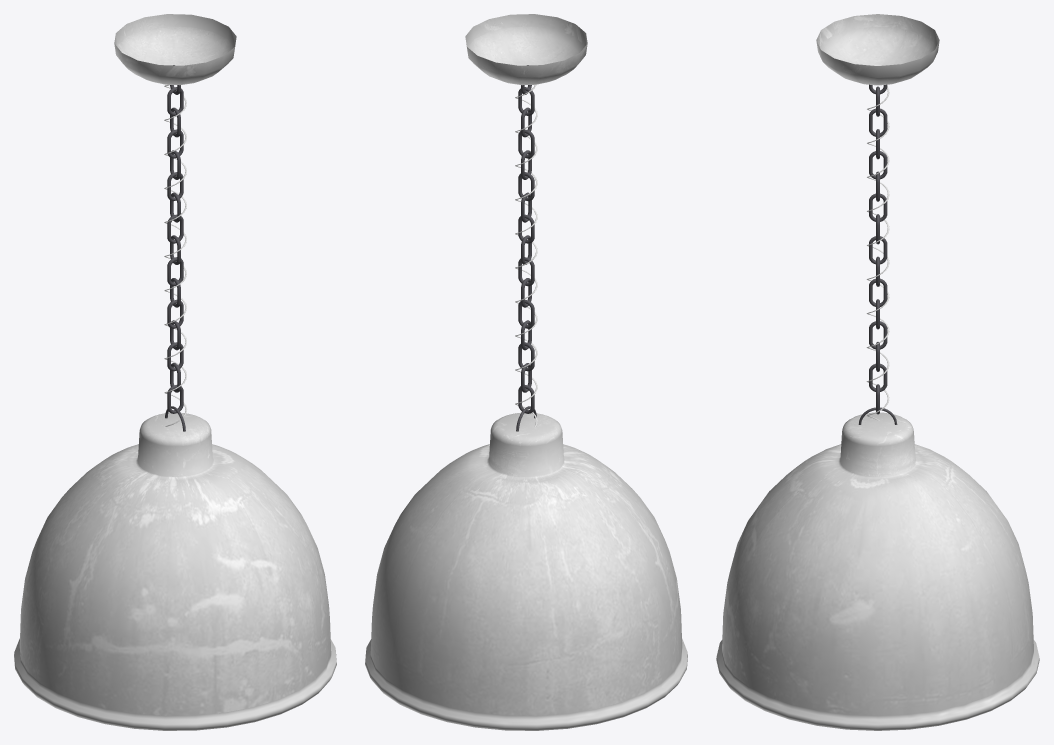
The model's file is ceiling_light_with_led_light_bulb..glb.
3 views of the same model, side by side, from view 1: azimuth 30°, elevation 25°; view 2: azimuth 150°, elevation 25°; view 3: azimuth 270°, elevation 25° (orthographic).
Parts seen in each view (by area): view 1: Object_4, Object_3, Object_2; view 2: Object_4, Object_3, Object_2; view 3: Object_4, Object_3, Object_2.
Boxes of the visible parts, <box> form: Object_4: <box>14,413,336,730</box>; Object_3: <box>114,14,236,426</box>; Object_2: <box>165,65,185,431</box>; Object_4: <box>365,413,687,730</box>; Object_3: <box>465,14,587,427</box>; Object_2: <box>516,65,536,431</box>; Object_4: <box>716,412,1039,730</box>; Object_3: <box>816,14,939,420</box>; Object_2: <box>858,84,897,424</box>.
Size of the model in its own units: 0.2622 by 0.558 by 0.2622.
3 materials, 3 textured.
